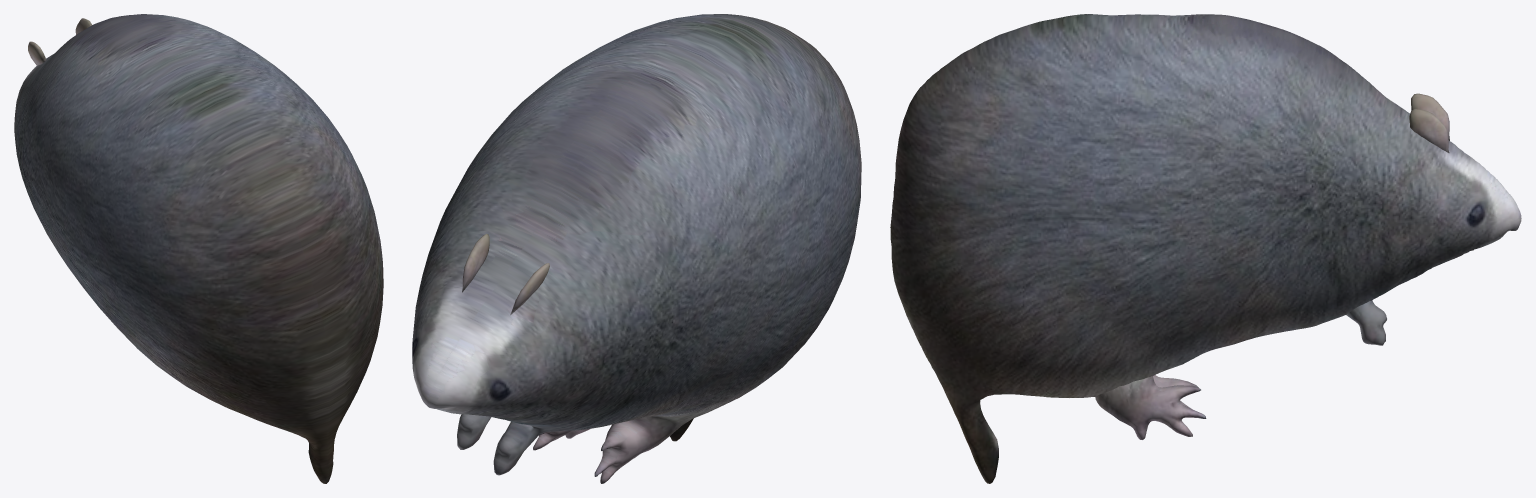
File: bigrat_model.glb
3 renders of one model, left to right at view 1: azimuth 30°, elevation 25°; view 2: azimuth 150°, elevation 25°; view 3: azimuth 270°, elevation 25°, orthographic. The views are drawn at different scales.
Parts seen in each view (by area): view 1: Object_5; view 2: Object_5; view 3: Object_5.
Part boxes in pixels (<box>): Object_5: <box>14,14,383,483</box>; Object_5: <box>412,14,861,483</box>; Object_5: <box>890,14,1521,483</box>.
Size of the model in its own units: 0.2549 by 0.3814 by 0.5123.
1 material, 1 textured.
